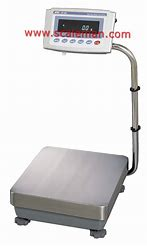Industrial Scale: (9, 7, 141, 239)
